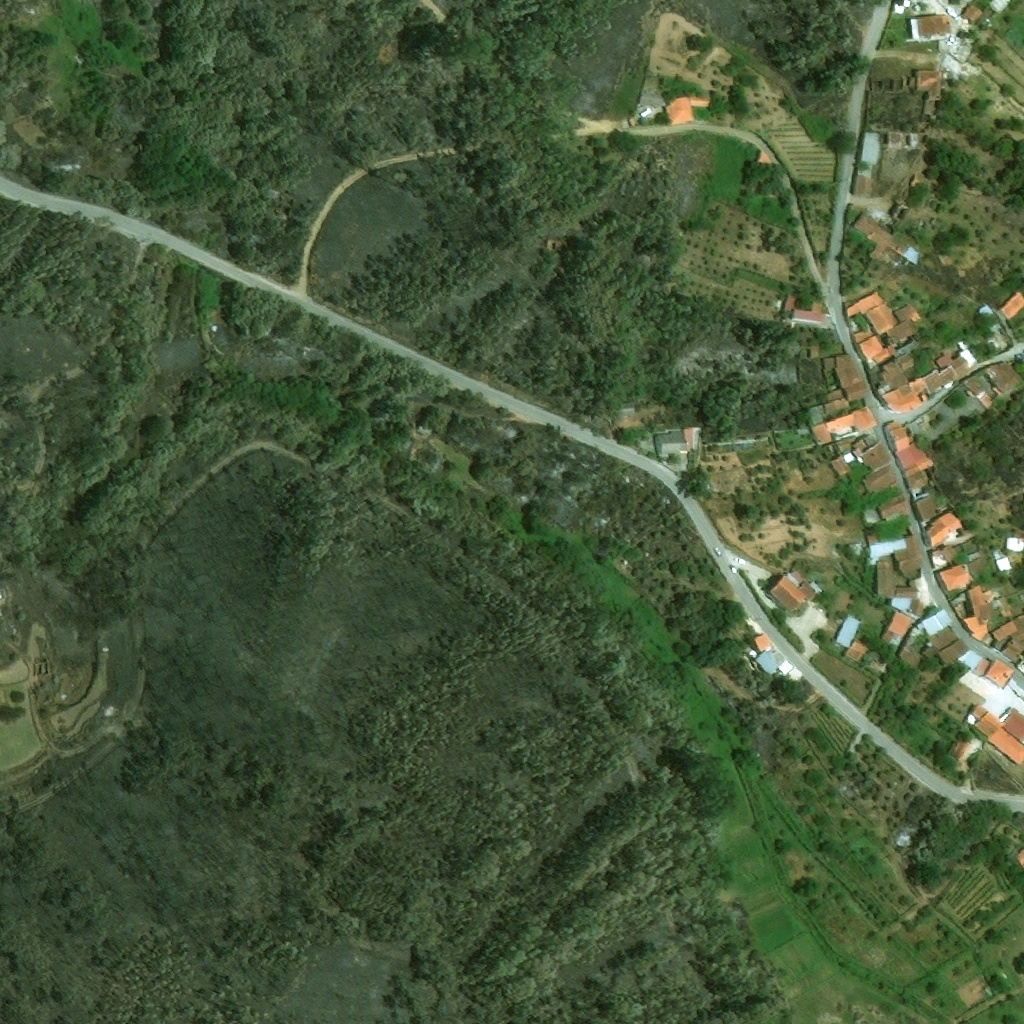0 no-damage: (969, 700, 1023, 766), (853, 210, 898, 263), (641, 72, 710, 104), (767, 572, 816, 616), (922, 625, 971, 668), (960, 585, 995, 642), (862, 439, 897, 493), (875, 559, 920, 599), (924, 506, 965, 548), (825, 404, 878, 432), (655, 426, 701, 458), (821, 350, 859, 387), (885, 302, 918, 344), (981, 361, 1023, 393), (841, 289, 884, 319), (895, 532, 924, 576), (897, 442, 932, 478), (877, 609, 912, 645), (937, 561, 974, 595), (755, 646, 793, 677), (865, 299, 897, 334), (882, 419, 912, 456), (869, 536, 907, 565), (919, 605, 954, 636), (875, 359, 908, 390), (857, 333, 891, 363), (882, 388, 923, 412), (910, 15, 950, 39), (985, 658, 1015, 690), (923, 365, 957, 393), (935, 348, 970, 374), (835, 613, 860, 647), (665, 97, 694, 126), (878, 494, 908, 520), (907, 467, 938, 492), (892, 236, 921, 262), (914, 493, 940, 522), (820, 386, 846, 414), (1000, 290, 1023, 320), (861, 131, 881, 164), (990, 619, 1017, 642), (1000, 638, 1023, 663), (932, 544, 958, 566), (790, 307, 823, 324), (950, 737, 974, 760), (845, 639, 868, 662), (962, 373, 986, 395), (897, 643, 921, 665), (842, 380, 867, 400), (828, 456, 851, 477), (992, 596, 1013, 618), (952, 538, 979, 555), (853, 174, 872, 198), (852, 324, 874, 344), (811, 422, 831, 443), (961, 2, 983, 21), (805, 404, 824, 426), (895, 350, 916, 369), (1010, 613, 1023, 643), (967, 557, 988, 575), (755, 149, 771, 171), (860, 506, 880, 523), (780, 293, 798, 311), (960, 347, 977, 366), (978, 390, 994, 407), (857, 160, 873, 177), (995, 556, 1012, 572), (751, 634, 765, 653), (975, 656, 989, 673), (1005, 537, 1022, 551), (908, 377, 924, 391), (847, 541, 864, 554), (689, 97, 710, 107), (978, 304, 993, 318), (852, 438, 867, 450), (836, 439, 851, 451), (867, 533, 880, 545), (842, 451, 855, 463), (964, 561, 974, 576), (863, 434, 875, 446), (967, 550, 981, 560), (910, 173, 921, 185), (988, 321, 1000, 331), (983, 986, 993, 998), (944, 378, 955, 388)
2 major-damage: (914, 69, 949, 101), (887, 131, 918, 147), (923, 99, 935, 114), (902, 76, 914, 87)
3 destroyed: (891, 201, 909, 222), (838, 783, 856, 800), (917, 120, 930, 140), (32, 663, 49, 677), (0, 585, 7, 599)
4 un-classified: (988, 0, 1012, 14), (894, 3, 905, 13), (952, 0, 974, 5), (1017, 589, 1023, 601), (903, 0, 911, 7), (620, 559, 627, 565)
